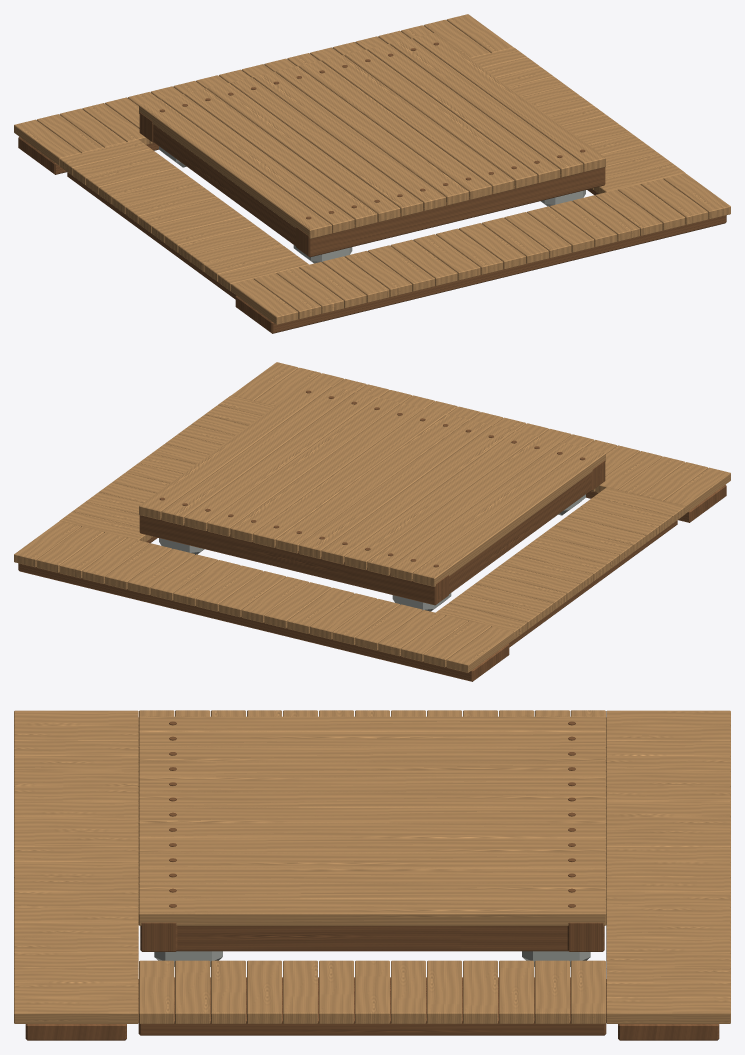
The model's file is Foundation.fbx.
3 renders of one model, top to bottom at view 1: azimuth 30°, elevation 25°; view 2: azimuth 150°, elevation 25°; view 3: azimuth 270°, elevation 25°, orthographic. The views are drawn at different scales.
Parts seen in each view (by area): view 1: Foundation_LOD0; view 2: Foundation_LOD0; view 3: Foundation_LOD0.
Part boxes in pixels (x1,y1,x2,y2): Foundation_LOD0: (14, 14, 730, 333); Foundation_LOD0: (14, 362, 730, 681); Foundation_LOD0: (14, 710, 730, 1040).
Size of what is drawn, in the model's own units: 460 by 53.5 by 460.
Materials: 3 (2 with a texture image).
